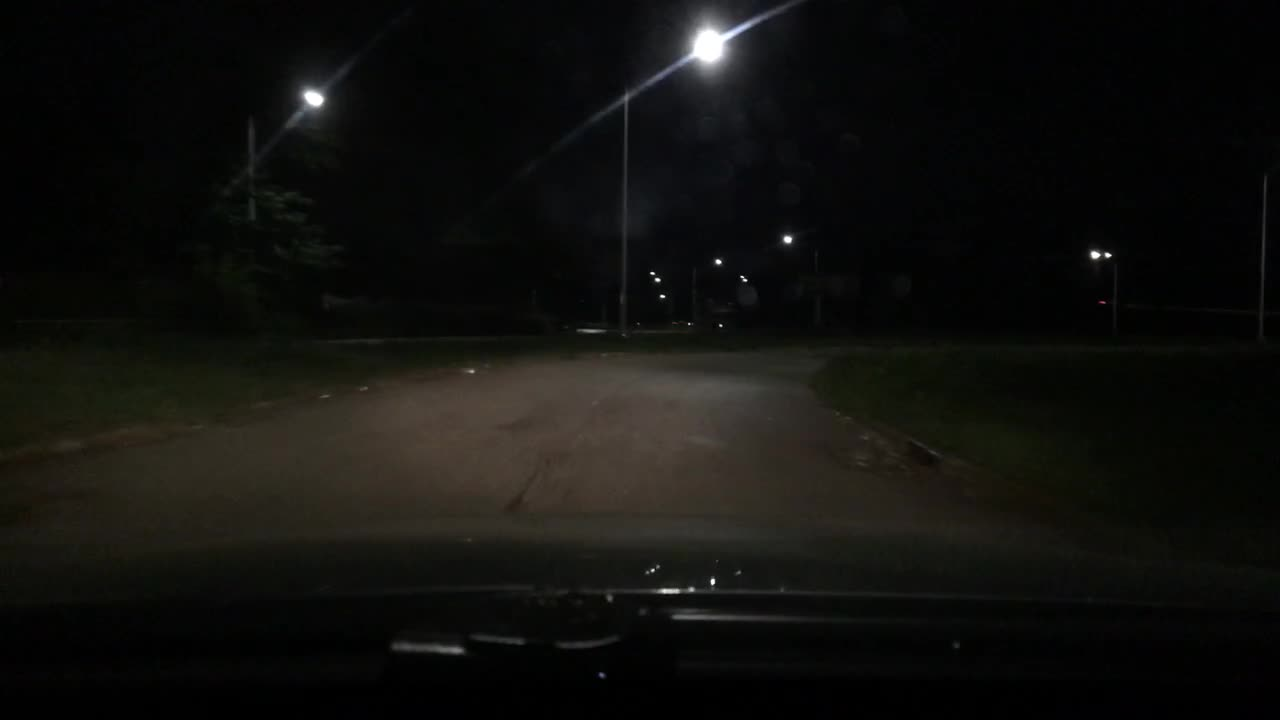car: (572, 321, 626, 338), (709, 304, 736, 328), (667, 317, 693, 329)
traffic sign: (736, 286, 756, 303)
